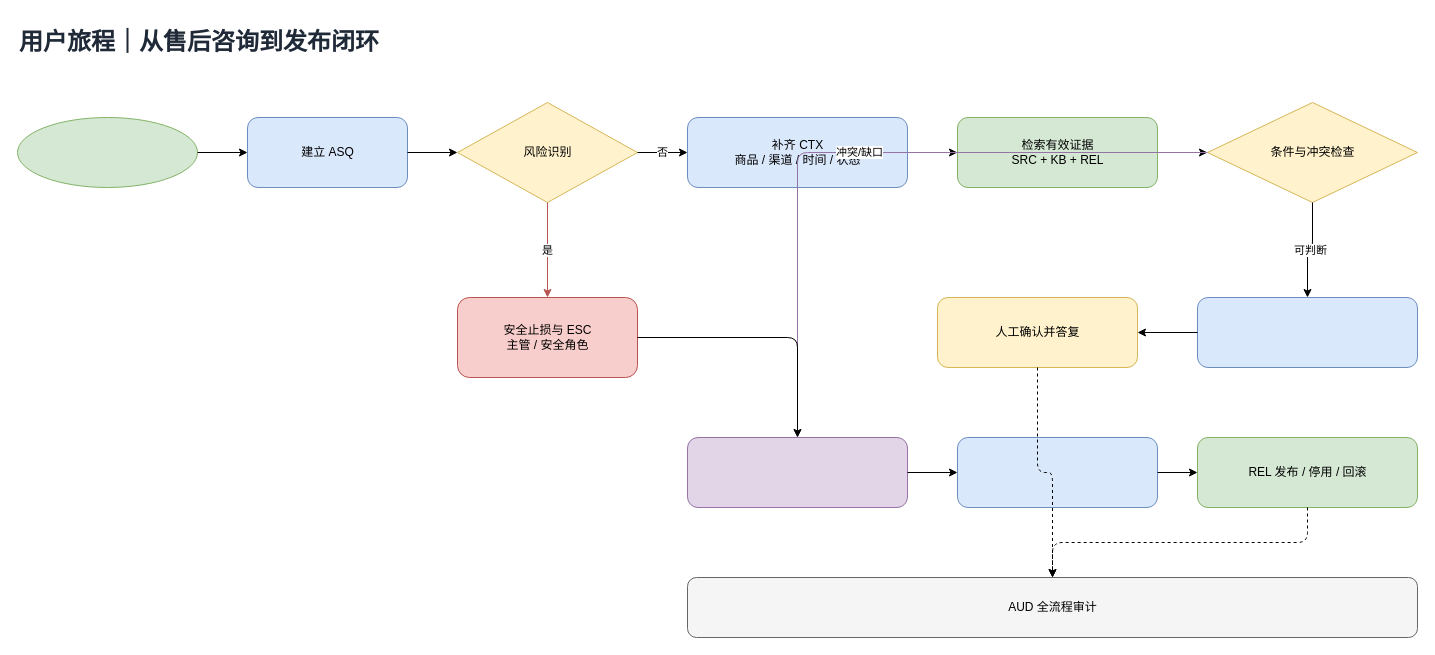
This 1435x655 diagram has some shape labels left out. The centre of each missing label's shape, as x and y in pixels:
ADV 条件建议: the point at 1307,332
CASE 问题闭环: the point at 797,472
EVAL 核心任务回归: the point at 1057,472
客户提出售后问题: the point at 107,152
